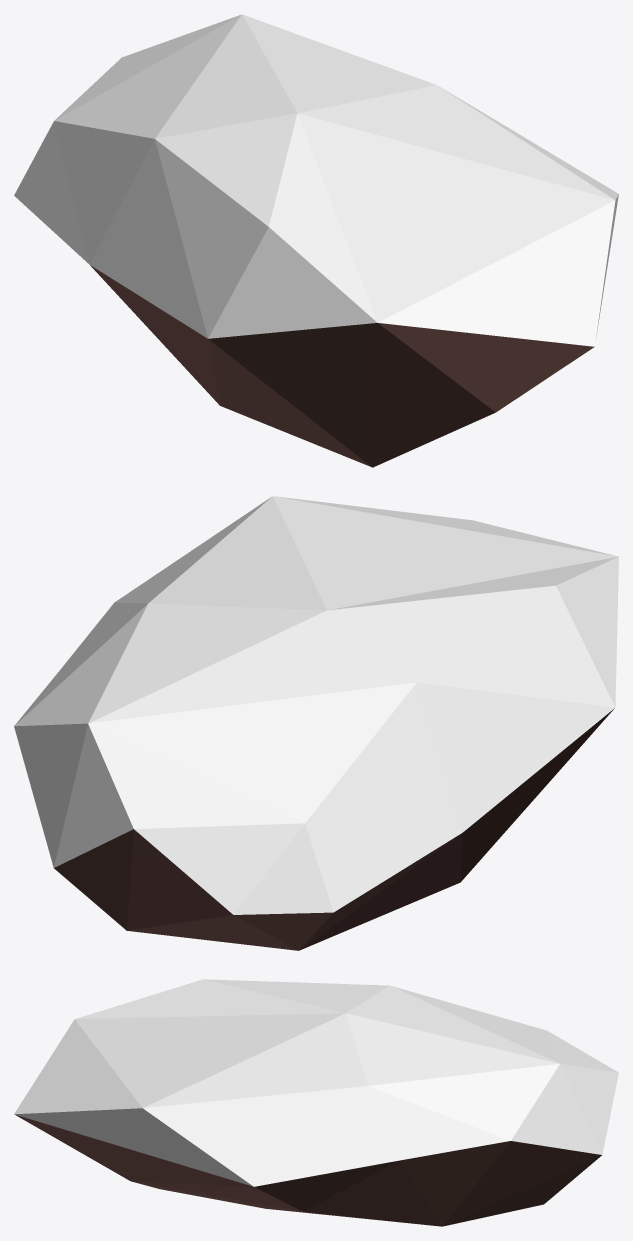
Rendered from snow_stone_007.fbx.
The picture shows the model from 3 angles, top to bottom: view 1: azimuth 30°, elevation 25°; view 2: azimuth 150°, elevation 25°; view 3: azimuth 270°, elevation 25°; orthographic projection. The views are drawn at different scales.
Visible parts, largest first — view 1: snow_stone_007; view 2: snow_stone_007; view 3: snow_stone_007.
Part boxes in pixels (x1,y1,x2,y2): snow_stone_007: (14,14,618,467); snow_stone_007: (14,496,618,950); snow_stone_007: (14,979,618,1226).
Size of the model in its own units: 193 by 300 by 109.
